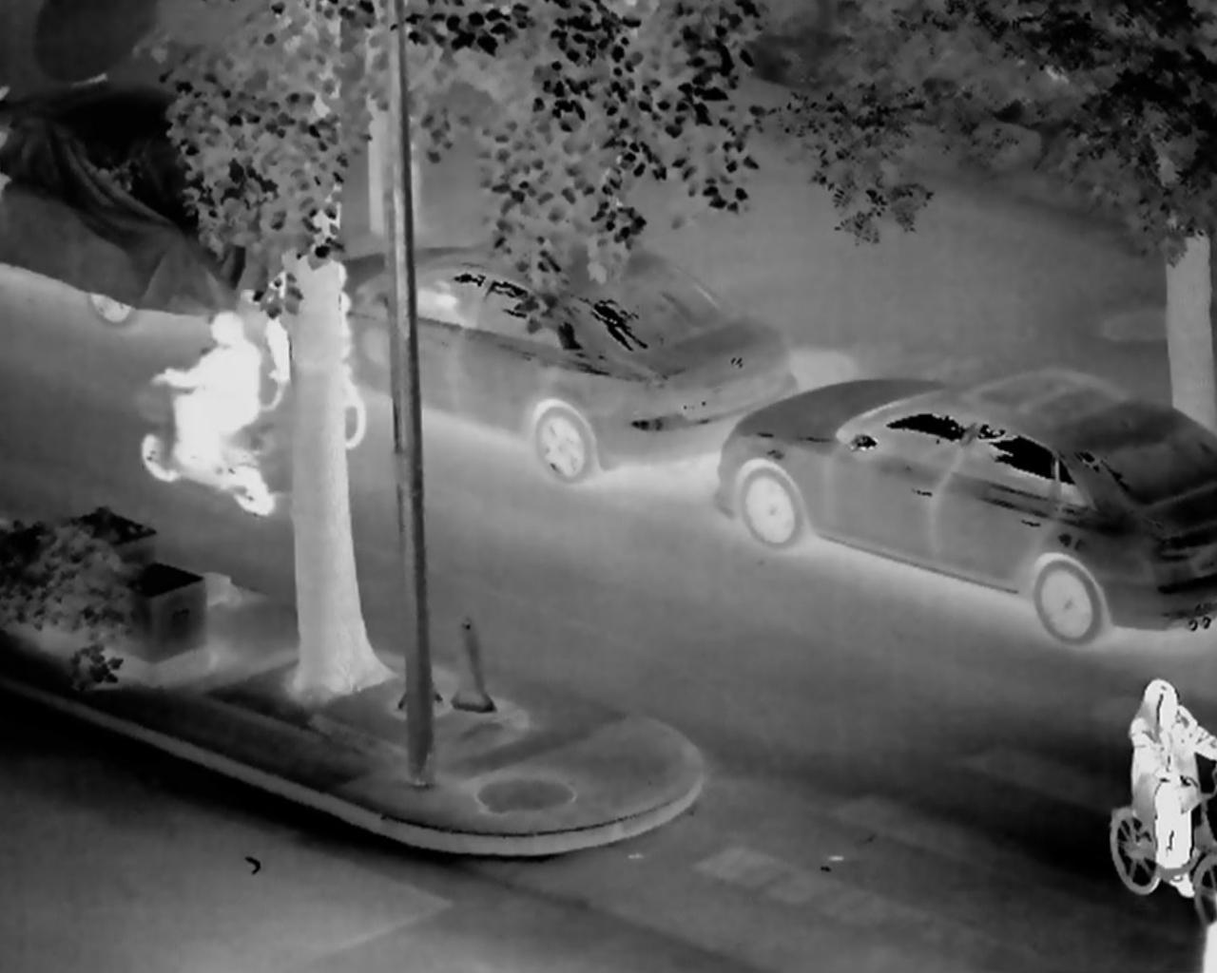person: (152, 309, 269, 500), (1121, 676, 1217, 896), (248, 223, 344, 404)
